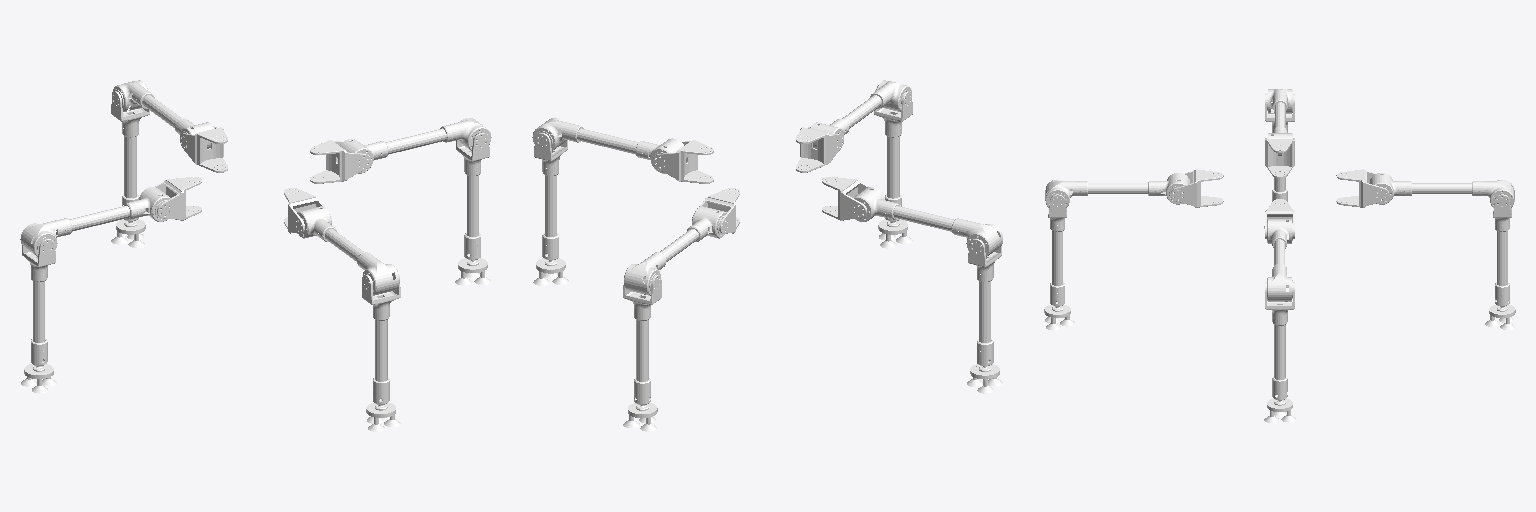
--- What the picture shows (computed from the rendered views, not written in the file) ---
3 views of the same robot in one strip: view 1: azimuth 30°, elevation 25°; view 2: azimuth 150°, elevation 25°; view 3: azimuth 270°, elevation 25° (orthographic).
Robot: WashingSpider_urdf — 21 links, 20 joints (20 revolute); root link base_link; default pose: all joints at 0.
Visible links, largest first — view 1: link_bl2, link_br2, link_fr2, link_br3, link_bl3, link_fr3, link_fl3, link_fl2, link_fr1, link_fl1, link_bl1, link_br1 (+4 smaller); view 2: link_bl2, link_fl2, link_fr2, link_fl3, link_bl3, link_fr3, link_br3, link_br2, link_fr1, link_br1, link_bl1, link_fl1 (+4 smaller); view 3: link_br2, link_fl2, link_fr2, link_fr3, link_fl3, link_br3, link_fl1, link_br1, link_bl1, link_bl2, link_bl3, link_fr1 (+3 smaller).
Link boxes in pixels (x1,y1,x2,y2): link_bl2: [20, 187, 169, 256]; link_br2: [297, 206, 399, 295]; link_fr2: [340, 118, 491, 173]; link_br3: [362, 270, 400, 406]; link_bl3: [22, 239, 55, 368]; link_fr3: [456, 133, 489, 262]; link_fl3: [111, 90, 149, 223]; link_fl2: [112, 80, 214, 150]; link_fr1: [310, 140, 370, 183]; link_fl1: [180, 127, 227, 172]; link_bl1: [155, 177, 201, 220]; link_br1: [284, 188, 331, 233]; link_bl2: [854, 187, 1002, 256]; link_fl2: [624, 206, 726, 295]; link_fr2: [532, 117, 686, 173]; link_fl3: [623, 272, 661, 407]; link_bl3: [968, 239, 1001, 368]; link_fr3: [534, 133, 567, 262]; link_br3: [874, 86, 912, 223]; link_br2: [810, 80, 911, 149]; link_fr1: [653, 140, 713, 183]; link_br1: [796, 127, 843, 172]; link_bl1: [822, 177, 868, 220]; link_fl1: [692, 188, 739, 233]; link_br2: [1045, 173, 1190, 207]; link_fl2: [1369, 173, 1514, 207]; link_fr2: [1267, 219, 1292, 301]; link_fr3: [1265, 282, 1294, 402]; link_fl3: [1493, 194, 1511, 308]; link_br3: [1048, 194, 1066, 308]; link_fl1: [1336, 169, 1388, 207]; link_br1: [1171, 169, 1223, 207]; link_bl1: [1265, 138, 1294, 177]; link_bl2: [1267, 89, 1292, 155]; link_bl3: [1265, 94, 1294, 201]; link_fr1: [1265, 199, 1294, 238].
Bounding box of the posed robot: 1.25 × 1.25 × 0.435 m (x, y, z).
Meshes: 21 distinct files referenced, 16 mesh visuals loaded (16 binary STL); not drawn: 5 (reference not matched to a file when rendering).

The robot description file, URDF, robot "WashingSpider_urdf":
<?xml version="1.0" encoding="utf-8"?>
<!-- This URDF was automatically created by SolidWorks to URDF Exporter! Originally created by Stephen Brawner ([email redacted]) 
     Commit Version: 1.6.0-4-g7f85cfe  Build Version: 1.6.7995.38578
     For more information, please see http://wiki.ros.org/sw_urdf_exporter -->
<robot
  name="WashingSpider_urdf">
  <link
    name="base_link">
    <inertial>
      <origin
        xyz="-2.44837797478741E-09 1.48954144680025E-05 -0.0103453962445513"
        rpy="0 0 0" />
      <mass
        value="1.54835830960647" />
      <inertia
        ixx="0.00914475257309362"
        ixy="-4.48559853333218E-17"
        ixz="-4.68697879174162E-12"
        iyy="0.00914475257309363"
        iyz="-3.38592279239731E-08"
        izz="0.0176549241244158" />
    </inertial>
    <visual>
      <origin
        xyz="0 0 0"
        rpy="0 0 0" />
      <geometry>
        <mesh
          filename="../meshes/base_link.STL" />
      </geometry>
      <material
        name="">
        <color
          rgba="0.792156862745098 0.819607843137255 0.933333333333333 1" />
      </material>
    </visual>
    <collision>
      <origin
        xyz="0 0 0"
        rpy="0 0 0" />
      <geometry>
        <mesh
          filename="../meshes/base_link.STL" />
      </geometry>
    </collision>
  </link>
  <link
    name="link_fr1">
    <inertial>
      <origin
        xyz="0.0504478400372166 3.36152100599563E-07 -4.08790089449079E-07"
        rpy="0 0 0" />
      <mass
        value="0.112261738514136" />
      <inertia
        ixx="0.000162461380646296"
        ixy="-7.3112214609737E-09"
        ixz="-8.69582751816835E-09"
        iyy="0.00016352699296823"
        iyz="2.0045509020549E-10"
        izz="0.000162932888942434" />
    </inertial>
    <visual>
      <origin
        xyz="0 0 0"
        rpy="0 0 0" />
      <geometry>
        <mesh
          filename="../meshes/link_fr1.STL" />
      </geometry>
      <material
        name="">
        <color
          rgba="1 1 1 1" />
      </material>
    </visual>
    <collision>
      <origin
        xyz="0 0 0"
        rpy="0 0 0" />
      <geometry>
        <mesh
          filename="../meshes/link_fr1.STL" />
      </geometry>
    </collision>
  </link>
  <joint
    name="joint_fr1"
    type="revolute">
    <origin
      xyz="0.169705627484772 0 0"
      rpy="0 0 0" />
    <parent
      link="base_link" />
    <child
      link="link_fr1" />
    <axis
      xyz="0 0 1" />
    <limit
      lower="-1"
      upper="1"
      effort="50"
      velocity="20" />
  </joint>
  <link
    name="link_fr2">
    <inertial>
      <origin
        xyz="0.16412428711101 -0.00755987496532779 0.00191943533997327"
        rpy="0 0 0" />
      <mass
        value="0.488122188092189" />
      <inertia
        ixx="0.00022040595013723"
        ixy="1.93373242589079E-05"
        ixz="-3.38088542671884E-07"
        iyy="0.000467686641439584"
        iyz="1.83045207756459E-06"
        izz="0.000506844920467807" />
    </inertial>
    <visual>
      <origin
        xyz="0 0 0"
        rpy="0 0 0" />
      <geometry>
        <mesh
          filename="../meshes/link_fr2.STL" />
      </geometry>
      <material
        name="">
        <color
          rgba="1 1 1 1" />
      </material>
    </visual>
    <collision>
      <origin
        xyz="0 0 0"
        rpy="0 0 0" />
      <geometry>
        <mesh
          filename="../meshes/link_fr2.STL" />
      </geometry>
    </collision>
  </link>
  <joint
    name="joint_fr2"
    type="revolute">
    <origin
      xyz="0.1 -0.000449999999998618 0"
      rpy="1.5707963267949 0 0" />
    <parent
      link="link_fr1" />
    <child
      link="link_fr2" />
    <axis
      xyz="0 0 -1" />
    <limit
      lower="-1.5"
      upper="1.5"
      effort="50"
      velocity="20" />
  </joint>
  <link
    name="link_fr3">
    <inertial>
      <origin
        xyz="0.159813671951655 -4.46137993215245E-09 -3.25364432174347E-07"
        rpy="0 0 0" />
      <mass
        value="0.306902592247708" />
      <inertia
        ixx="0.000101267299518146"
        ixy="-1.08458660799775E-11"
        ixz="-4.95542640055646E-09"
        iyy="0.000956528027227436"
        iyz="1.31267404066257E-12"
        izz="0.000917423467581902" />
    </inertial>
    <visual>
      <origin
        xyz="0 0 0"
        rpy="0 0 0" />
      <geometry>
        <mesh
          filename="../meshes/link_fr3.STL" />
      </geometry>
      <material
        name="">
        <color
          rgba="1 1 1 1" />
      </material>
    </visual>
    <collision>
      <origin
        xyz="0 0 0"
        rpy="0 0 0" />
      <geometry>
        <mesh
          filename="../meshes/link_fr3.STL" />
      </geometry>
    </collision>
  </link>
  <joint
    name="joint_fr3"
    type="revolute">
    <origin
      xyz="0.319999999999999 -0.02 -0.000449999999998535"
      rpy="0 0 -1.5707963267949" />
    <parent
      link="link_fr2" />
    <child
      link="link_fr3" />
    <axis
      xyz="0 0 -1" />
    <limit
      lower="-1.2"
      upper="1.2"
      effort="50"
      velocity="20" />
  </joint>
  <link
    name="link_fr4x">
    <inertial>
      <origin
        xyz="-0.589705628556589 5.97747588781949E-06 0.27504469111743"
        rpy="0 0 0" />
      <mass
        value="3.85832058743804" />
      <inertia
        ixx="0.473101425552534"
        ixy="-3.91392401391827E-06"
        ixz="4.09220620931072E-10"
        iyy="0.473101424286787"
        iyz="-2.32929369151645E-06"
        izz="0.832547052359708" />
    </inertial>
    <visual>
      <origin
        xyz="0 0 0"
        rpy="0 0 0" />
      <geometry>
        <mesh
          filename="../meshes/link_fr4x.STL" />
      </geometry>
      <material
        name="">
        <color
          rgba="1 1 1 1" />
      </material>
    </visual>
    <collision>
      <origin
        xyz="0 0 0"
        rpy="0 0 0" />
      <geometry>
        <mesh
          filename="../meshes/link_fr4x.STL" />
      </geometry>
    </collision>
  </link>
  <joint
    name="joint_fr4x"
    type="revolute">
    <origin
      xyz="0.3366 0 0"
      rpy="-1.5708 0 1.5708" />
    <parent
      link="link_fr3" />
    <child
      link="link_fr4x" />
    <axis
      xyz="1 0 0" />
    <limit
      lower="-0.35"
      upper="0.35"
      effort="10"
      velocity="10" />
    <dynamics
      damping="0.08"
      friction="0.1" />
  </joint>
  <link
    name="link_fr4y">
    <inertial>
      <origin
        xyz="1.11022302462516E-16 8.32667268468867E-17 -0.0130860330785751"
        rpy="0 0 0" />
      <mass
        value="0.0709257694362985" />
      <inertia
        ixx="1.78868428457057E-05"
        ixy="3.02786754445351E-21"
        ixz="-3.2131075122167E-21"
        iyy="1.78868428457057E-05"
        iyz="1.82350587893395E-21"
        izz="2.50841539981986E-05" />
    </inertial>
    <visual>
      <origin
        xyz="0 0 0"
        rpy="0 0 0" />
      <geometry>
        <mesh
          filename="../meshes/link_fr4y.STL" />
      </geometry>
      <material
        name="">
        <color
          rgba="1 1 1 1" />
      </material>
    </visual>
    <collision>
      <origin
        xyz="0 0 0"
        rpy="0 0 0" />
      <geometry>
        <mesh
          filename="../meshes/link_fr4y.STL" />
      </geometry>
    </collision>
  </link>
  <joint
    name="joint_fr4y"
    type="revolute">
    <origin
      xyz="0 0 0"
      rpy="0 0 0" />
    <parent
      link="link_fr4x" />
    <child
      link="link_fr4y" />
    <axis
      xyz="0 -1 0" />
    <limit
      lower="-0.35"
      upper="0.35"
      effort="10"
      velocity="10" />
    <dynamics
      damping="0.08"
      friction="0.1" />
  </joint>
  <link
    name="link_fl1">
    <inertial>
      <origin
        xyz="0.0504478400372172 3.36152102384734E-07 -4.08790089476835E-07"
        rpy="0 0 0" />
      <mass
        value="0.112261738514135" />
      <inertia
        ixx="0.000162461380646296"
        ixy="-7.31122146075295E-09"
        ixz="-8.69582751814775E-09"
        iyy="0.00016352699296823"
        iyz="2.00455090226343E-10"
        izz="0.000162932888942434" />
    </inertial>
    <visual>
      <origin
        xyz="0 0 0"
        rpy="0 0 0" />
      <geometry>
        <mesh
          filename="../meshes/link_fl1.STL" />
      </geometry>
      <material
        name="">
        <color
          rgba="1 1 1 1" />
      </material>
    </visual>
    <collision>
      <origin
        xyz="0 0 0"
        rpy="0 0 0" />
      <geometry>
        <mesh
          filename="../meshes/link_fl1.STL" />
      </geometry>
    </collision>
  </link>
  <joint
    name="joint_fl1"
    type="revolute">
    <origin
      xyz="0 0.16971 0"
      rpy="0 0 1.5708" />
    <parent
      link="base_link" />
    <child
      link="link_fl1" />
    <axis
      xyz="0 0 1" />
    <limit
      lower="-1"
      upper="1"
      effort="50"
      velocity="20" />
  </joint>
  <link
    name="link_fl2">
    <inertial>
      <origin
        xyz="0.164124287111058 -0.00755987496533127 0.00191943533998"
        rpy="0 0 0" />
      <mass
        value="0.488122188092396" />
      <inertia
        ixx="0.000220405950137262"
        ixy="1.93373242589031E-05"
        ixz="-3.38088542670048E-07"
        iyy="0.000467686641439699"
        iyz="1.8304520775627E-06"
        izz="0.000506844920467899" />
    </inertial>
    <visual>
      <origin
        xyz="0 0 0"
        rpy="0 0 0" />
      <geometry>
        <mesh
          filename="../meshes/link_fl2.STL" />
      </geometry>
      <material
        name="">
        <color
          rgba="1 1 1 1" />
      </material>
    </visual>
    <collision>
      <origin
        xyz="0 0 0"
        rpy="0 0 0" />
      <geometry>
        <mesh
          filename="../meshes/link_fl2.STL" />
      </geometry>
    </collision>
  </link>
  <joint
    name="joint_fl2"
    type="revolute">
    <origin
      xyz="0.100000000000001 -0.000449999999996803 0"
      rpy="1.5707963267949 0 0" />
    <parent
      link="link_fl1" />
    <child
      link="link_fl2" />
    <axis
      xyz="0 0 -1" />
    <limit
      lower="-1.5"
      upper="1.5"
      effort="50"
      velocity="20" />
  </joint>
  <link
    name="link_fl3">
    <inertial>
      <origin
        xyz="0.159813671751753 -4.4292366441212E-09 -3.25315773575299E-07"
        rpy="0 0 0" />
      <mass
        value="0.306902592772891" />
      <inertia
        ixx="0.000101267300168705"
        ixy="-1.08164717895339E-11"
        ixz="-4.95538160869026E-09"
        iyy="0.000956528027686894"
        iyz="1.01349319963444E-12"
        izz="0.000917423467786122" />
    </inertial>
    <visual>
      <origin
        xyz="0 0 0"
        rpy="0 0 0" />
      <geometry>
        <mesh
          filename="../meshes/link_fl3.STL" />
      </geometry>
      <material
        name="">
        <color
          rgba="1 1 1 1" />
      </material>
    </visual>
    <collision>
      <origin
        xyz="0 0 0"
        rpy="0 0 0" />
      <geometry>
        <mesh
          filename="../meshes/link_fl3.STL" />
      </geometry>
    </collision>
  </link>
  <joint
    name="joint_fl3"
    type="revolute">
    <origin
      xyz="0.319999999999999 -0.02 -0.000449999999998517"
      rpy="0 0 -1.5707963267949" />
    <parent
      link="link_fl2" />
    <child
      link="link_fl3" />
    <axis
      xyz="0 0 -1" />
    <limit
      lower="-1.2"
      upper="1.2"
      effort="50"
      velocity="20" />
  </joint>
  <link
    name="link_fl4x">
    <inertial>
      <origin
        xyz="-0.589699650008883 1.07181652241429E-09 0.27504469111743"
        rpy="0 0 0" />
      <mass
        value="3.85832058743804" />
      <inertia
        ixx="0.473101424286787"
        ixy="3.91392401388874E-06"
        ixz="-2.32929369155452E-06"
        iyy="0.473101425552534"
        iyz="-4.09220624399993E-10"
        izz="0.832547052359707" />
    </inertial>
    <visual>
      <origin
        xyz="0 0 0"
        rpy="0 0 0" />
      <geometry>
        <mesh
          filename="../meshes/link_fl4x.STL" />
      </geometry>
      <material
        name="">
        <color
          rgba="1 1 1 1" />
      </material>
    </visual>
    <collision>
      <origin
        xyz="0 0 0"
        rpy="0 0 0" />
      <geometry>
        <mesh
          filename="../meshes/link_fl4x.STL" />
      </geometry>
    </collision>
  </link>
  <joint
    name="joint_fl4x"
    type="revolute">
    <origin
      xyz="0.3366 0 0"
      rpy="-1.5708 0 1.5708" />
    <parent
      link="link_fl3" />
    <child
      link="link_fl4x" />
    <axis
      xyz="-1 0 0" />
    <limit
      lower="-0.35"
      upper="0.35"
      effort="10"
      velocity="10" />
    <dynamics
      damping="0.08"
      friction="0.1" />
  </joint>
  <link
    name="link_fl4y">
    <inertial>
      <origin
        xyz="-1.11022302462516E-16 9.35002055355774E-17 -0.0130860330785751"
        rpy="0 0 0" />
      <mass
        value="0.0709257694362986" />
      <inertia
        ixx="1.78868428457057E-05"
        ixy="2.99337463903777E-21"
        ixz="-2.3125062842492E-21"
        iyy="1.78868428457057E-05"
        iyz="3.61474312561653E-22"
        izz="2.50841539981986E-05" />
    </inertial>
    <visual>
      <origin
        xyz="0 0 0"
        rpy="0 0 0" />
      <geometry>
        <mesh
          filename="../meshes/link_fl4y.STL" />
      </geometry>
      <material
        name="">
        <color
          rgba="1 1 1 1" />
      </material>
    </visual>
    <collision>
      <origin
        xyz="0 0 0"
        rpy="0 0 0" />
      <geometry>
        <mesh
          filename="../meshes/link_fl4y.STL" />
      </geometry>
    </collision>
  </link>
  <joint
    name="joint_fl4y"
    type="revolute">
    <origin
      xyz="0 0 0"
      rpy="0 0 0" />
    <parent
      link="link_fl4x" />
    <child
      link="link_fl4y" />
    <axis
      xyz="0 -1 0" />
    <limit
      lower="-0.35"
      upper="0.35"
      effort="10"
      velocity="10" />
    <dynamics
      damping="0.08"
      friction="0.1" />
  </joint>
  <link
    name="link_bl1">
    <inertial>
      <origin
        xyz="0.0504478400372192 3.36152100322007E-07 -4.0879008950459E-07"
        rpy="0 0 0" />
      <mass
        value="0.112261738514136" />
      <inertia
        ixx="0.000162461380646296"
        ixy="-7.31122146087643E-09"
        ixz="-8.69582751809861E-09"
        iyy="0.00016352699296823"
        iyz="2.00455090111812E-10"
        izz="0.000162932888942434" />
    </inertial>
    <visual>
      <origin
        xyz="0 0 0"
        rpy="0 0 0" />
      <geometry>
        <mesh
          filename="../meshes/link_bl1.STL" />
      </geometry>
      <material
        name="">
        <color
          rgba="1 1 1 1" />
      </material>
    </visual>
    <collision>
      <origin
        xyz="0 0 0"
        rpy="0 0 0" />
      <geometry>
        <mesh
          filename="../meshes/link_bl1.STL" />
      </geometry>
    </collision>
  </link>
  <joint
    name="joint_bl1"
    type="revolute">
    <origin
      xyz="-0.16971 0 0"
      rpy="0 0 3.1416" />
    <parent
      link="base_link" />
    <child
      link="link_bl1" />
    <axis
      xyz="0 0 1" />
    <limit
      lower="-1"
      upper="1"
      effort="50"
      velocity="20" />
  </joint>
  <link
    name="link_bl2">
    <inertial>
      <origin
        xyz="0.164124287111028 -0.00755987496532966 0.00191943533997743"
        rpy="0 0 0" />
      <mass
        value="0.488122188092318" />
      <inertia
        ixx="0.000220405950137251"
        ixy="1.93373242589154E-05"
        ixz="-3.38088542646831E-07"
        iyy="0.000467686641439655"
        iyz="1.83045207756365E-06"
        izz="0.000506844920467866" />
    </inertial>
    <visual>
      <origin
        xyz="0 0 0"
        rpy="0 0 0" />
      <geometry>
        <mesh
          filename="../meshes/link_bl2.STL" />
      </geometry>
      <material
        name="">
        <color
          rgba="1 1 1 1" />
      </material>
    </visual>
    <collision>
      <origin
        xyz="0 0 0"
        rpy="0 0 0" />
      <geometry>
        <mesh
          filename="../meshes/link_bl2.STL" />
      </geometry>
    </collision>
  </link>
  <joint
    name="joint_bl2"
    type="revolute">
    <origin
      xyz="0.100000000000003 -0.000449999999998923 0"
      rpy="1.5707963267949 0 0" />
    <parent
      link="link_bl1" />
    <child
      link="link_bl2" />
    <axis
      xyz="0 0 -1" />
    <limit
      lower="-1.5"
      upper="1.5"
      effort="50"
      velocity="20" />
  </joint>
  <link
    name="link_bl3">
    <inertial>
      <origin
        xyz="0.159813671751753 -4.42923686616581E-09 -3.25315773597179E-07"
        rpy="0 0 0" />
      <mass
        value="0.306902592772891" />
      <inertia
        ixx="0.000101267300168705"
        ixy="-1.08164717683836E-11"
        ixz="-4.95538160884975E-09"
        iyy="0.000956528027686894"
        iyz="1.01349314089083E-12"
        izz="0.000917423467786122" />
    </inertial>
    <visual>
      <origin
        xyz="0 0 0"
        rpy="0 0 0" />
      <geometry>
        <mesh
          filename="../meshes/link_bl3.STL" />
      </geometry>
      <material
        name="">
        <color
          rgba="1 1 1 1" />
      </material>
    </visual>
    <collision>
      <origin
        xyz="0 0 0"
        rpy="0 0 0" />
      <geometry>
        <mesh
          filename="../meshes/link_bl3.STL" />
      </geometry>
    </collision>
  </link>
  <joint
    name="joint_bl3"
    type="revolute">
    <origin
      xyz="0.319999999999999 -0.02 -0.000449999999998507"
      rpy="0 0 -1.5707963267949" />
    <parent
      link="link_bl2" />
    <child
      link="link_bl3" />
    <axis
      xyz="0 0 -1" />
    <limit
      lower="-1.2"
      upper="1.2"
      effort="50"
      velocity="20" />
  </joint>
  <link
    name="link_bl4x">
    <inertial>
      <origin
        xyz="-0.589705626412955 -5.97747588987341E-06 0.27504469111743"
        rpy="0 0 0" />
      <mass
        value="3.85832058743804" />
      <inertia
        ixx="0.473101425552534"
        ixy="-3.91392401389719E-06"
        ixz="-4.09220626135243E-10"
        iyy="0.473101424286787"
        iyz="2.3292936915234E-06"
        izz="0.832547052359707" />
    </inertial>
    <visual>
      <origin
        xyz="0 0 0"
        rpy="0 0 0" />
      <geometry>
        <mesh
          filename="../meshes/link_bl4x.STL" />
      </geometry>
      <material
        name="">
        <color
          rgba="1 1 1 1" />
      </material>
    </visual>
    <collision>
      <origin
        xyz="0 0 0"
        rpy="0 0 0" />
      <geometry>
        <mesh
          filename="../meshes/link_bl4x.STL" />
      </geometry>
    </collision>
  </link>
  <joint
    name="joint_bl4x"
    type="revolute">
    <origin
      xyz="0.3366 0 0"
      rpy="-1.5708 0 1.5708" />
    <parent
      link="link_bl3" />
    <child
      link="link_bl4x" />
    <axis
      xyz="-1 0 0" />
    <limit
      lower="-0.35"
      upper="0.35"
      effort="10"
      velocity="10" />
    <dynamics
      damping="0.08"
      friction="0.1" />
  </joint>
  <link
    name="link_bl4y">
    <inertial>
      <origin
        xyz="0 8.32667268468867E-17 -0.013086033078575"
        rpy="0 0 0" />
      <mass
        value="0.0709257694362986" />
      <inertia
        ixx="1.78868428457057E-05"
        ixy="1.31590693776368E-21"
        ixz="-3.14906237784954E-21"
        iyy="1.78868428457057E-05"
        iyz="-2.21690713883513E-21"
        izz="2.50841539981986E-05" />
    </inertial>
    <visual>
      <origin
        xyz="0 0 0"
        rpy="0 0 0" />
      <geometry>
        <mesh
          filename="../meshes/link_bl4y.STL" />
      </geometry>
      <material
        name="">
        <color
          rgba="1 1 1 1" />
      </material>
    </visual>
    <collision>
      <origin
        xyz="0 0 0"
        rpy="0 0 0" />
      <geometry>
        <mesh
          filename="../meshes/link_bl4y.STL" />
      </geometry>
    </collision>
  </link>
  <joint
    name="joint_bl4y"
    type="revolute">
    <origin
      xyz="0 0 0"
      rpy="0 0 0" />
    <parent
      link="link_bl4x" />
    <child
      link="link_bl4y" />
    <axis
      xyz="0 -1 0" />
    <limit
      lower="-0.35"
      upper="0.35"
      effort="10"
      velocity="10" />
    <dynamics
      damping="0.08"
      friction="0.1" />
  </joint>
  <link
    name="link_br1">
    <inertial>
      <origin
        xyz="0.0504478400372189 3.3615210128859E-07 -4.08790089601735E-07"
        rpy="0 0 0" />
      <mass
        value="0.112261738514136" />
      <inertia
        ixx="0.000162461380646296"
        ixy="-7.31122146078923E-09"
        ixz="-8.69582751816022E-09"
        iyy="0.00016352699296823"
        iyz="2.00455090260932E-10"
        izz="0.000162932888942434" />
    </inertial>
    <visual>
      <origin
        xyz="0 0 0"
        rpy="0 0 0" />
      <geometry>
        <mesh
          filename="../meshes/link_br1.STL" />
      </geometry>
      <material
        name="">
        <color
          rgba="1 1 1 1" />
      </material>
    </visual>
    <collision>
      <origin
        xyz="0 0 0"
        rpy="0 0 0" />
      <geometry>
        <mesh
          filename="../meshes/link_br1.STL" />
      </geometry>
    </collision>
  </link>
  <joint
    name="joint_br1"
    type="revolute">
    <origin
      xyz="0 -0.169705627484771 0"
      rpy="0 0 -1.5707963267949" />
    <parent
      link="base_link" />
    <child
      link="link_br1" />
    <axis
      xyz="0 0 1" />
    <limit
      lower="-1"
      upper="1"
      effort="50"
      velocity="20" />
  </joint>
  <link
    name="link_br2">
    <inertial>
      <origin
        xyz="0.164124287111 -0.00755987496532703 0.00191943533997434"
        rpy="0 0 0" />
      <mass
        value="0.488122188092225" />
      <inertia
        ixx="0.000220405950137239"
        ixy="1.93373242589004E-05"
        ixz="-3.3808854265968E-07"
        iyy="0.0004676866414396"
        iyz="1.83045207756424E-06"
        izz="0.000506844920467823" />
    </inertial>
    <visual>
      <origin
        xyz="0 0 0"
        rpy="0 0 0" />
      <geometry>
        <mesh
          filename="../meshes/link_br2.STL" />
      </geometry>
      <material
        name="">
        <color
          rgba="1 1 1 1" />
      </material>
    </visual>
    <collision>
      <origin
        xyz="0 0 0"
        rpy="0 0 0" />
      <geometry>
        <mesh
          filename="../meshes/link_br2.STL" />
      </geometry>
    </collision>
  </link>
  <joint
    name="joint_br2"
    type="revolute">
    <origin
      xyz="0.100000000000002 -0.000449999999997878 0"
      rpy="1.5707963267949 0 0" />
    <parent
      link="link_br1" />
    <child
      link="link_br2" />
    <axis
      xyz="0 0 -1" />
    <limit
      lower="-1.5"
      upper="1.5"
      effort="50"
      velocity="20" />
  </joint>
  <link
    name="link_br3">
    <inertial>
      <origin
        xyz="0.159813671751753 -4.42923675514351E-09 -3.25315773612575E-07"
        rpy="0 0 0" />
      <mass
        value="0.306902592772891" />
      <inertia
        ixx="0.000101267300168705"
        ixy="-1.08164717374334E-11"
        ixz="-4.95538160876517E-09"
        iyy="0.000956528027686893"
        iyz="1.01349313580566E-12"
        izz="0.000917423467786122" />
    </inertial>
    <visual>
      <origin
        xyz="0 0 0"
        rpy="0 0 0" />
      <geometry>
        <mesh
          filename="../meshes/link_br3.STL" />
      </geometry>
      <material
        name="">
        <color
          rgba="1 1 1 1" />
      </material>
    </visual>
    <collision>
      <origin
        xyz="0 0 0"
        rpy="0 0 0" />
      <geometry>
        <mesh
          filename="../meshes/link_br3.STL" />
      </geometry>
    </collision>
  </link>
  <joint
    name="joint_br3"
    type="revolute">
    <origin
      xyz="0.319999999999999 -0.02 -0.000449999999998517"
      rpy="0 0 -1.5707963267949" />
    <parent
      link="link_br2" />
    <child
      link="link_br3" />
    <axis
      xyz="0 0 -1" />
    <limit
      lower="-1.2"
      upper="1.2"
      effort="50"
      velocity="20" />
  </joint>
  <link
    name="link_br4x">
    <inertial>
      <origin
        xyz="-0.589711604960661 -1.07181913242088E-09 0.27504469111743"
        rpy="0 0 0" />
      <mass
        value="3.85832058743804" />
      <inertia
        ixx="0.473101424286787"
        ixy="3.91392401390765E-06"
        ixz="2.32929369156626E-06"
        iyy="0.473101425552534"
        iyz="4.09220634808623E-10"
        izz="0.832547052359708" />
    </inertial>
    <visual>
      <origin
        xyz="0 0 0"
        rpy="0 0 0" />
      <geometry>
        <mesh
          filename="../meshes/link_br4x.STL" />
      </geometry>
      <material
        name="">
        <color
          rgba="1 1 1 1" />
      </material>
    </visual>
    <collision>
      <origin
        xyz="0 0 0"
        rpy="0 0 0" />
      <geometry>
        <mesh
          filename="../meshes/link_br4x.STL" />
      </geometry>
    </collision>
  </link>
  <joint
    name="joint_br4x"
    type="revolute">
    <origin
      xyz="0.3366 0 0"
      rpy="-1.5708 0 1.5708" />
    <parent
      link="link_br3" />
    <child
      link="link_br4x" />
    <axis
      xyz="1 0 0" />
    <limit
      lower="-0.35"
      upper="0.35"
      effort="10"
      velocity="10" />
    <dynamics
      damping="0.08"
      friction="0.1" />
  </joint>
  <link
    name="link_br4y">
    <inertial>
      <origin
        xyz="0 9.41419475452105E-17 -0.0130860330785749"
        rpy="0 0 0" />
      <mass
        value="0.0709257694362986" />
      <inertia
        ixx="1.78868428457057E-05"
        ixy="9.10774498439891E-22"
        ixz="-4.18319555575255E-21"
        iyy="1.78868428457057E-05"
        iyz="1.40377199548074E-21"
        izz="2.50841539981986E-05" />
    </inertial>
    <visual>
      <origin
        xyz="0 0 0"
        rpy="0 0 0" />
      <geometry>
        <mesh
          filename="../meshes/link_br4y.STL" />
      </geometry>
      <material
        name="">
        <color
          rgba="1 1 1 1" />
      </material>
    </visual>
    <collision>
      <origin
        xyz="0 0 0"
        rpy="0 0 0" />
      <geometry>
        <mesh
          filename="../meshes/link_br4y.STL" />
      </geometry>
    </collision>
  </link>
  <joint
    name="joint_br4y"
    type="revolute">
    <origin
      xyz="0 0 0"
      rpy="0 0 0" />
    <parent
      link="link_br4x" />
    <child
      link="link_br4y" />
    <axis
      xyz="0 -1 0" />
    <limit
      lower="-0.35"
      upper="0.35"
      effort="10"
      velocity="10" />
    <dynamics
      damping="0.08"
      friction="0.1" />
  </joint>
</robot>
